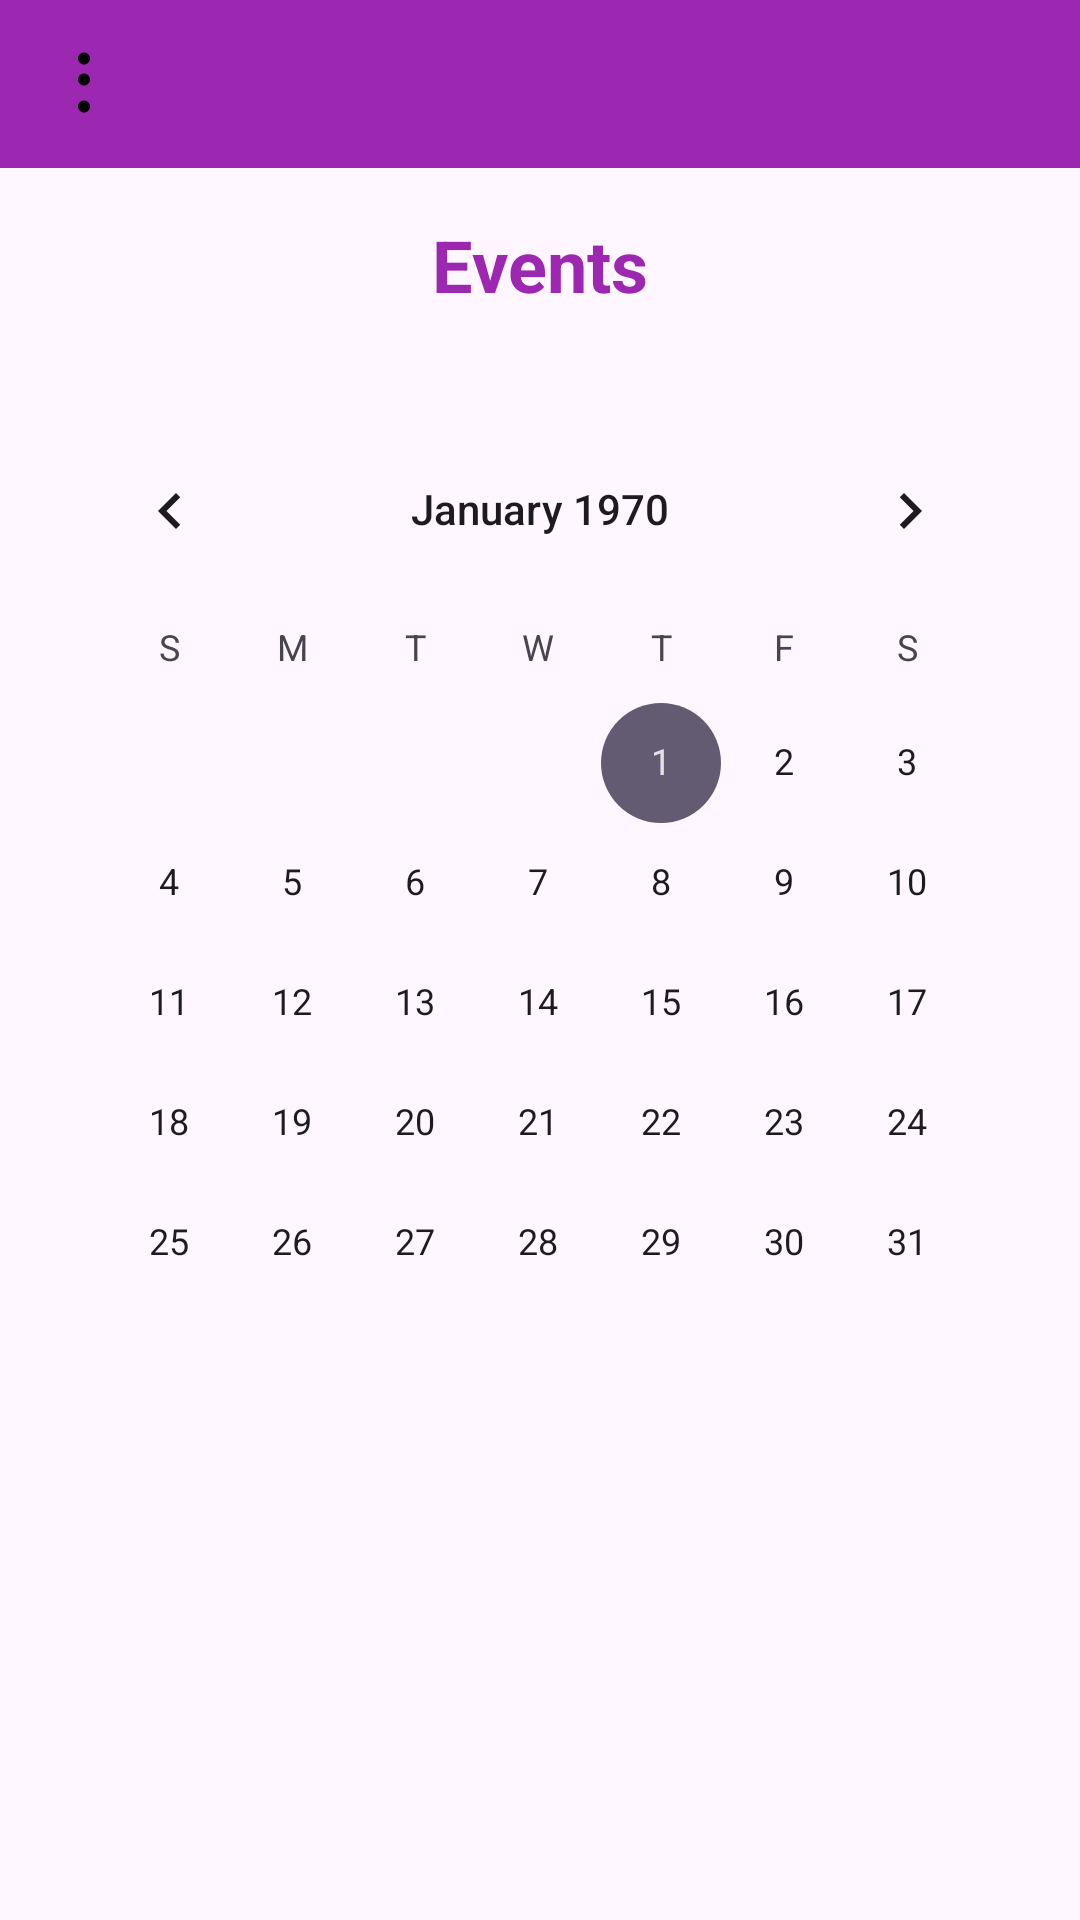

Named icons in this screenshot (1080 x 1920) and their centers, point (x, y):
Three Dot Menu: point (84, 82)
